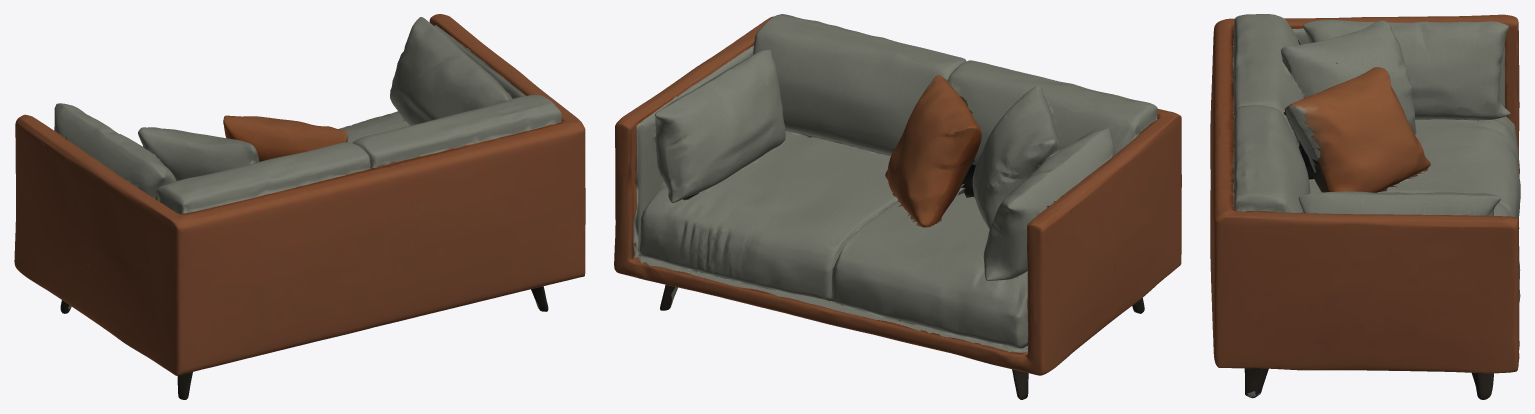
3 renders of one model, left to right at view 1: azimuth 30°, elevation 25°; view 2: azimuth 150°, elevation 25°; view 3: azimuth 270°, elevation 25°, orthographic.
Parts seen in each view (by area): view 1: tripo_node_f5b7c741-4fea-4e2f-9842-a7ca6516aeaa; view 2: tripo_node_f5b7c741-4fea-4e2f-9842-a7ca6516aeaa; view 3: tripo_node_f5b7c741-4fea-4e2f-9842-a7ca6516aeaa.
Boxes of the visible parts, box(x1,y1,x2,y2) form: tripo_node_f5b7c741-4fea-4e2f-9842-a7ca6516aeaa: box(14, 14, 585, 399); tripo_node_f5b7c741-4fea-4e2f-9842-a7ca6516aeaa: box(614, 14, 1181, 399); tripo_node_f5b7c741-4fea-4e2f-9842-a7ca6516aeaa: box(1210, 14, 1520, 399).
Bounding box in the file's own units: 1.44 × 0.7 × 0.9.
Materials: 2 (2 with a texture image).
